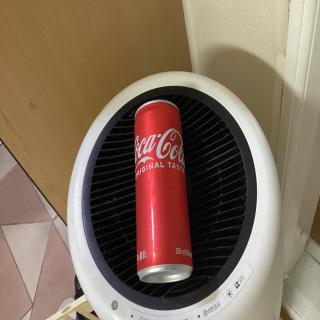cocacola: (131, 96, 193, 286)
